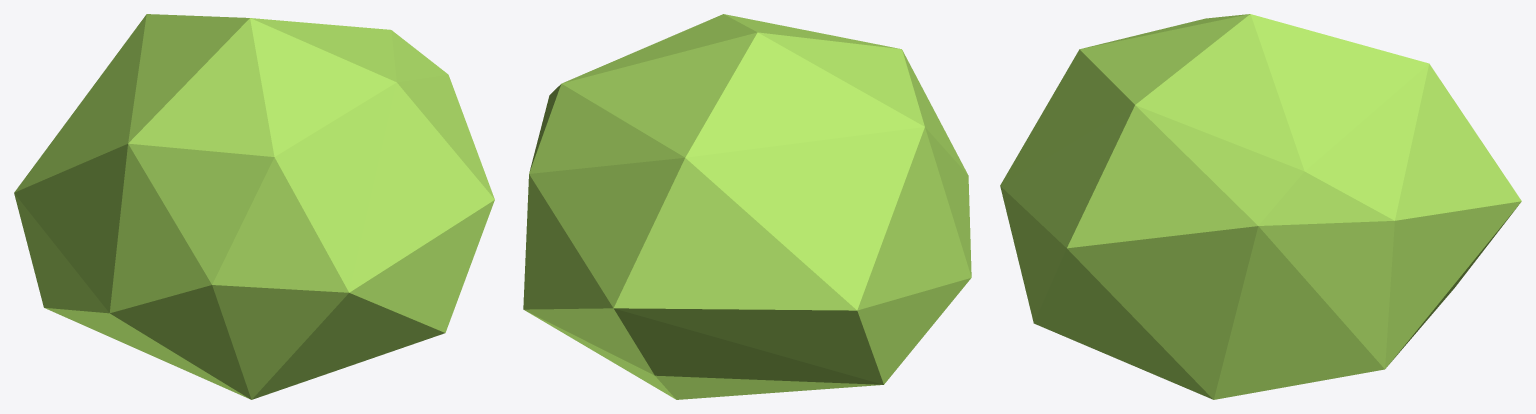
File: Bush3.fbx
3 renders of one model, left to right at view 1: azimuth 30°, elevation 25°; view 2: azimuth 150°, elevation 25°; view 3: azimuth 270°, elevation 25°, orthographic. The views are drawn at different scales.
Visible parts, largest first — view 1: Bush01.001; view 2: Bush01.001; view 3: Bush01.001.
Boxes of the visible parts, bbox=[...] form: Bush01.001: bbox=[14, 14, 494, 399]; Bush01.001: bbox=[523, 14, 971, 399]; Bush01.001: bbox=[1000, 14, 1521, 399].
Size of the model in its own units: 107 by 93.11 by 125.
